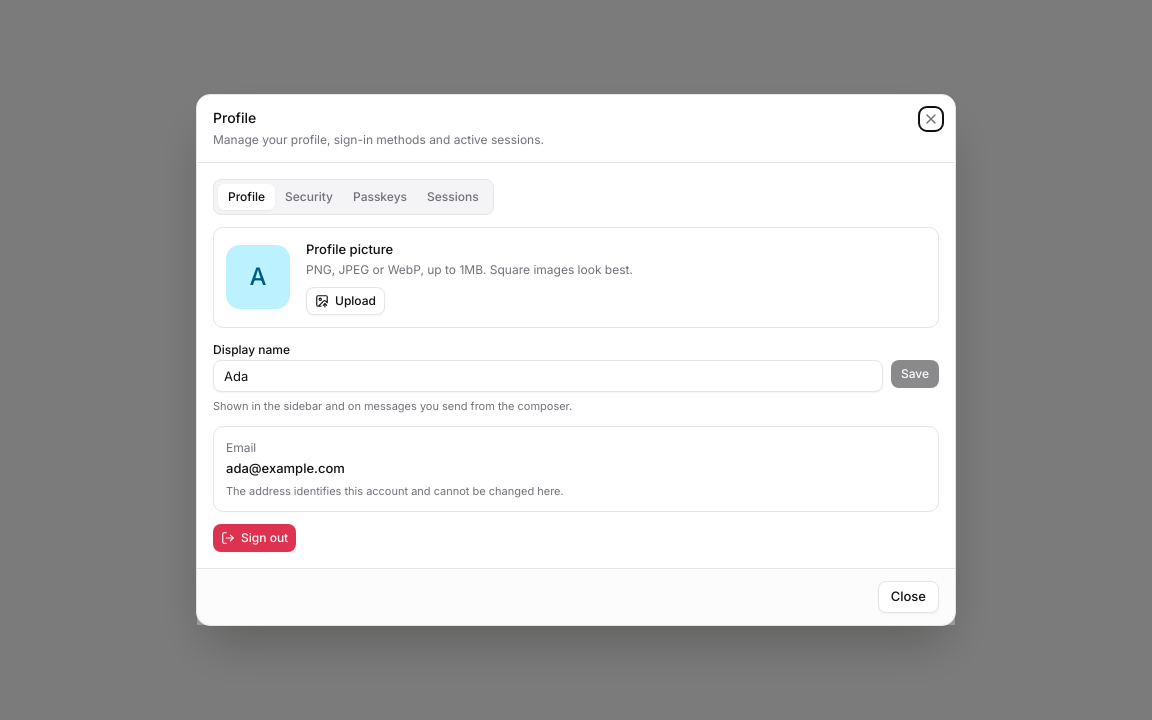
it: ProfileDialog › lists active sessions and marks the one you are on
The image size is (1152, 720).
What coordinates should you click on to do the following:
click the tab "Sessions"
I would click on:
 (453, 196)
Its box is [417,184,489,210].
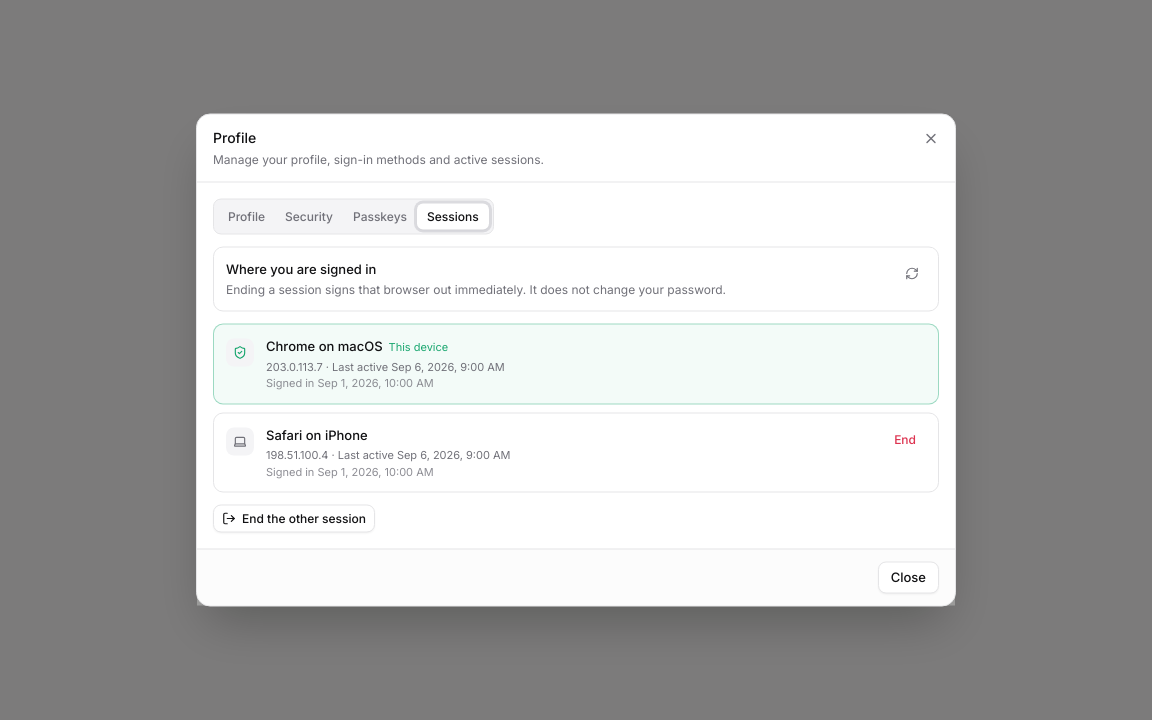
Check: the text "Chrome on macOS" is shown, box [266,338,383,354]
Check: the text "Safari on iPhone" is shown, box [266,426,368,442]
Check: the text "This device" is shown, box [389,340,448,354]
